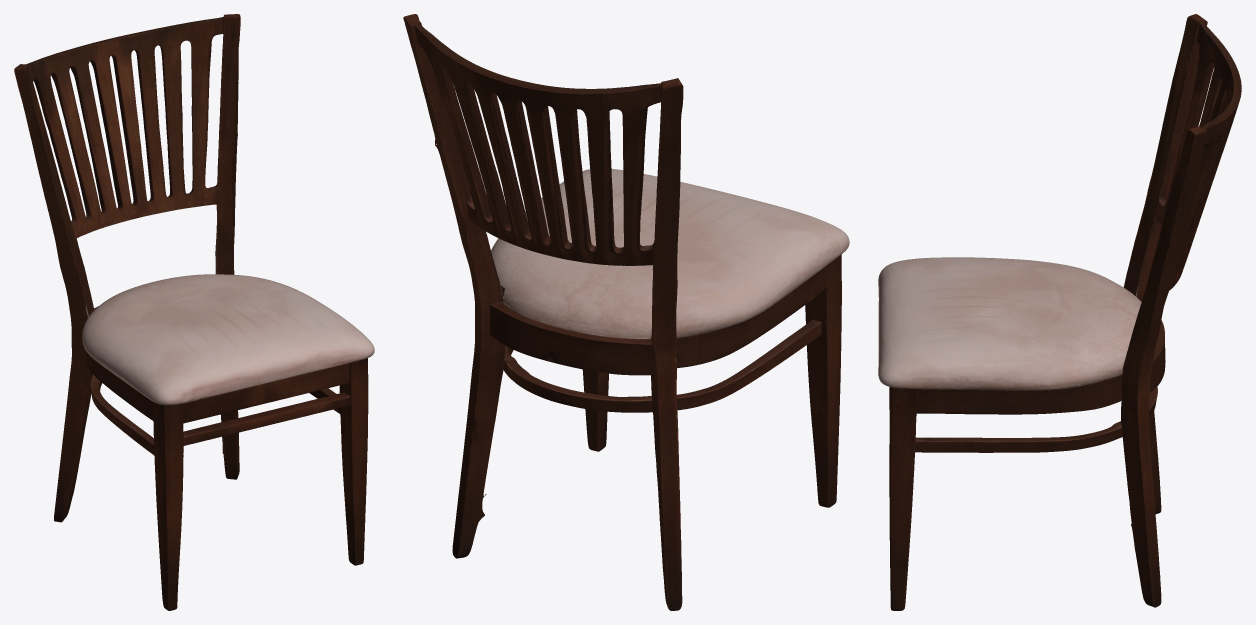
The model's file is SillaSala.glb.
3 views of the same model, side by side, from view 1: azimuth 30°, elevation 25°; view 2: azimuth 150°, elevation 25°; view 3: azimuth 270°, elevation 25° (orthographic). The views are drawn at different scales.
Bounding box in the file's own units: 0.345 × 0.65 × 0.4393.
1 material, 1 textured.
